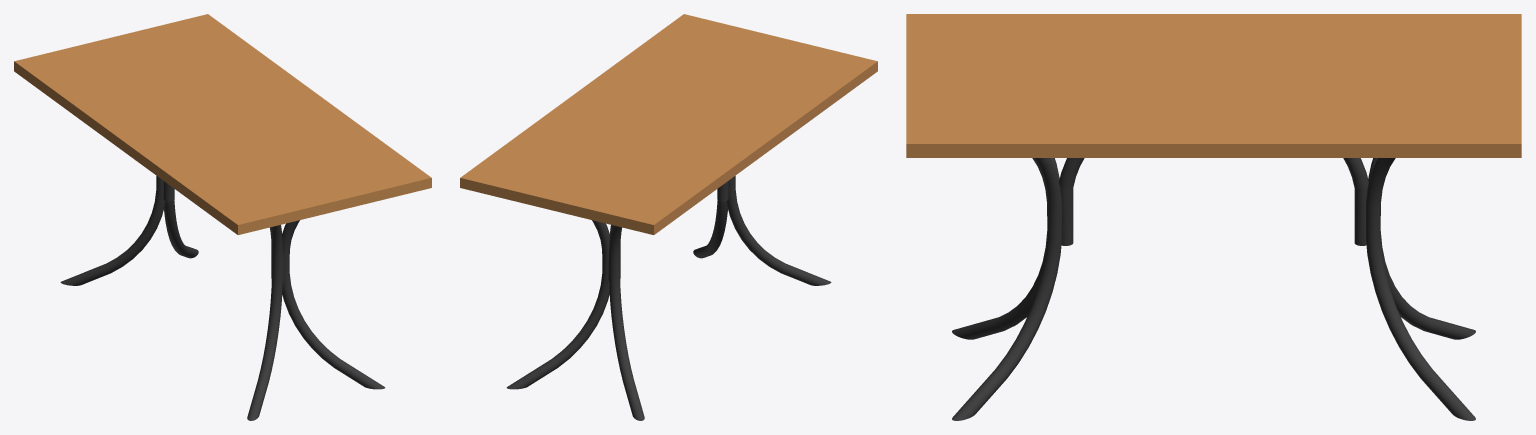
The model's file is table12.obj.
The picture shows the model from 3 angles, left to right: view 1: azimuth 30°, elevation 25°; view 2: azimuth 150°, elevation 25°; view 3: azimuth 270°, elevation 25°; orthographic projection. The views are drawn at different scales.
Visible parts, largest first — view 1: Mesh4 Model, Mesh2 Model, Mesh1 Model; view 2: Mesh4 Model, Mesh1 Model, Mesh2 Model; view 3: Mesh4 Model, Mesh1 Model, Mesh2 Model, Mesh3 Model.
Boxes of the visible parts, x1,y1,x2,y2 form: Mesh4 Model: [14, 14, 431, 234]; Mesh2 Model: [247, 220, 385, 420]; Mesh1 Model: [60, 176, 198, 285]; Mesh4 Model: [460, 14, 877, 234]; Mesh1 Model: [506, 220, 644, 420]; Mesh2 Model: [693, 176, 831, 285]; Mesh4 Model: [906, 14, 1521, 157]; Mesh1 Model: [1366, 158, 1475, 420]; Mesh2 Model: [952, 158, 1061, 420]; Mesh3 Model: [1059, 158, 1368, 245].
Bounding box in the file's own units: 0.8 × 0.85 × 1.6.
